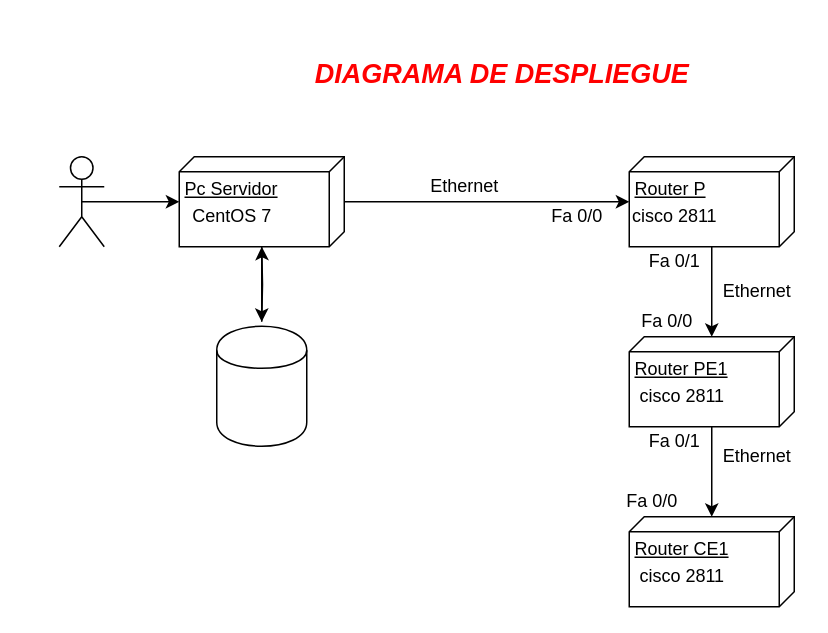
This 828x633 diagram has some shape labels left out. Each missing label, with the centre of its shape:
"Administrador" goes at pixel 81 201.
"Base de datos MySQL v15.1" goes at pixel 261 385.
